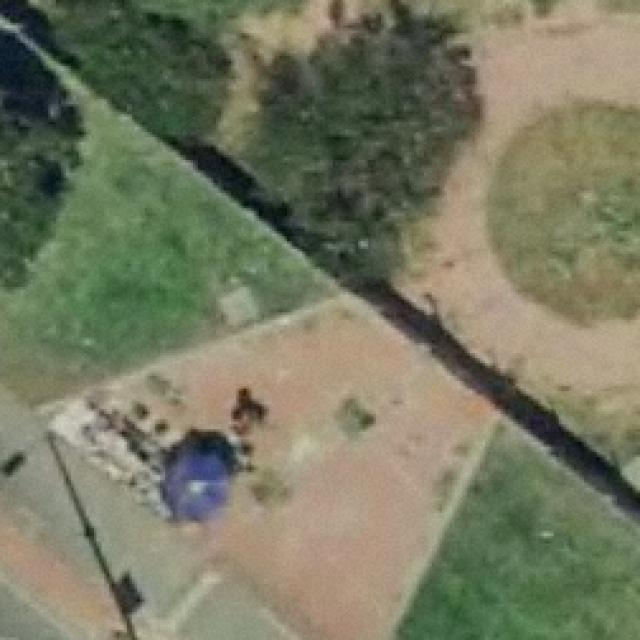vendedor_ambulante: (156, 439, 238, 524)
